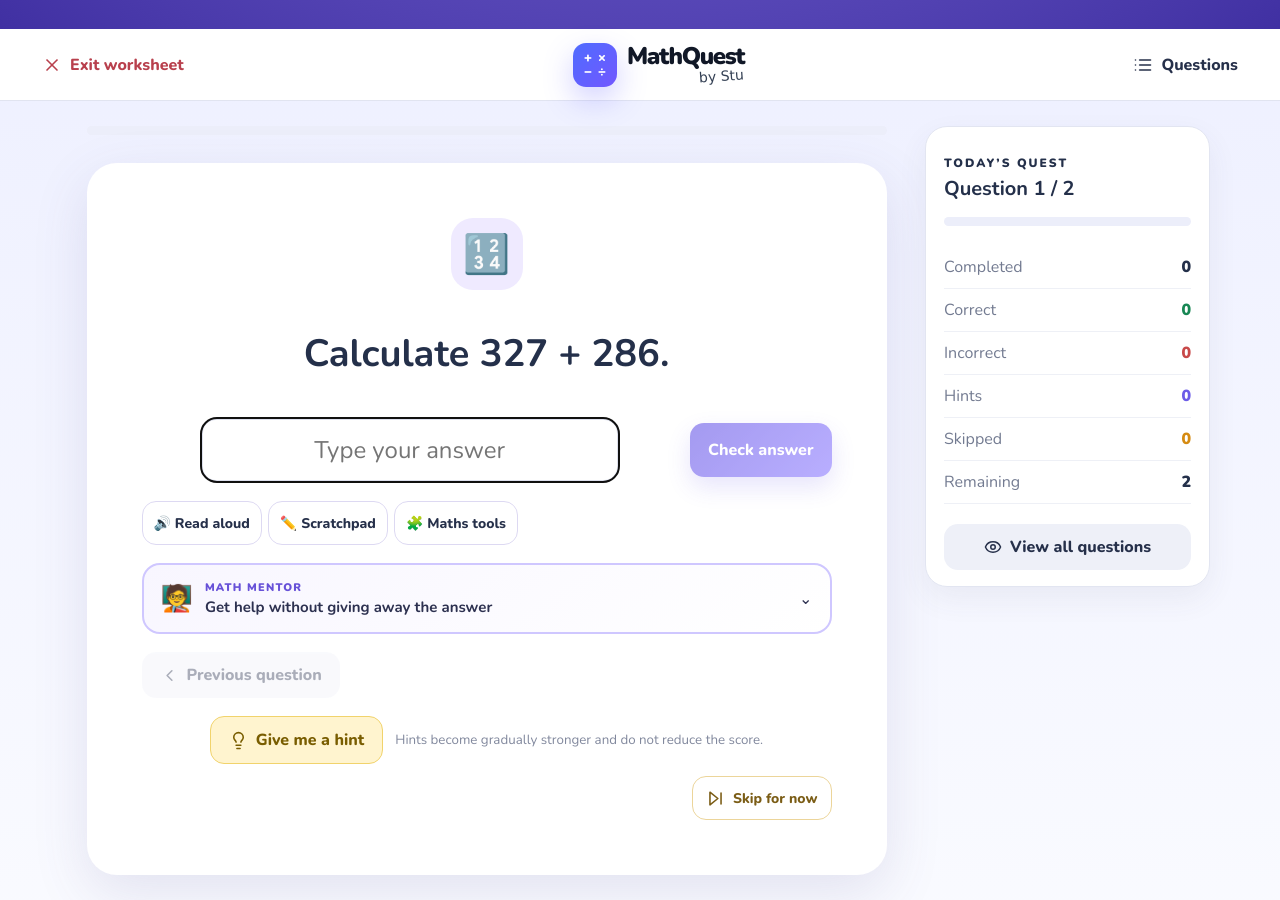
Test: v0.38 iPad landscape answer feedback › records the existing confidence evidence from inside the modal
(page scrolled)
Step 1. Type "613" into the field labelled "your answer" → x=410, y=450, box [200,417,620,483]
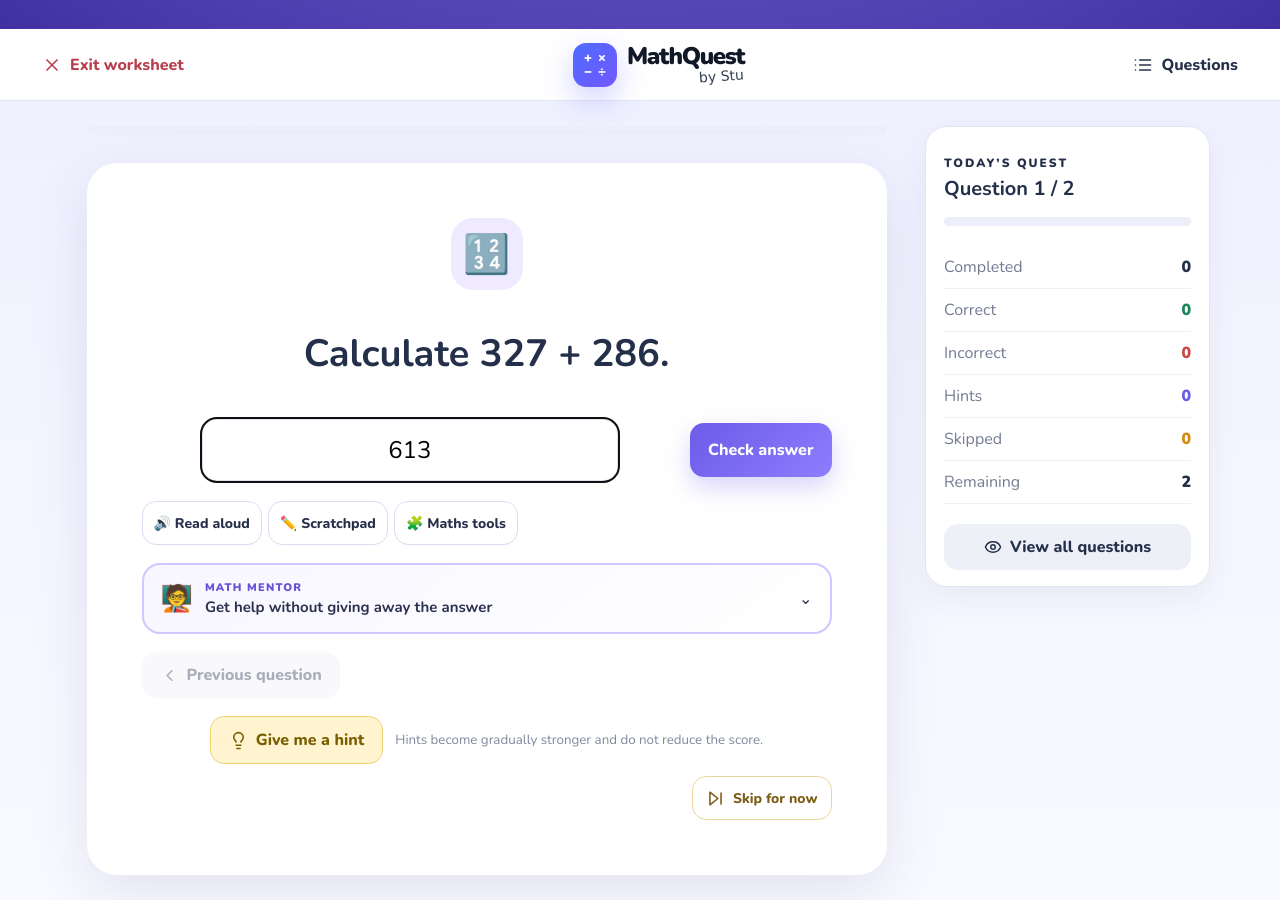
Step 2. Press Enter in the field named "your answer", box [200,417,620,483]
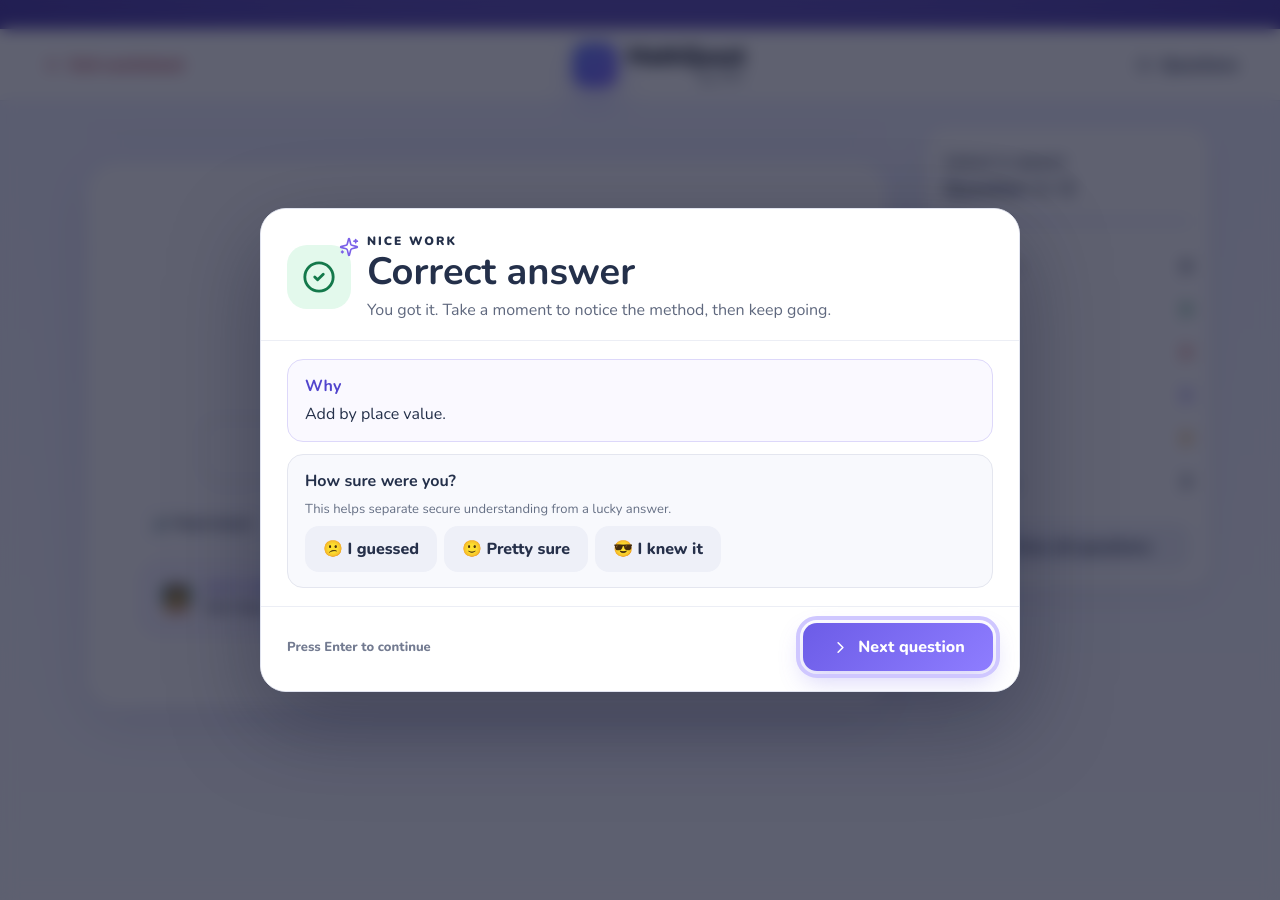
Result: the dialog "Correct answer" is shown at [260,208,1020,692]
Step 3. Click the button "🙂 Pretty sure" → x=516, y=549, box [444,526,588,572]
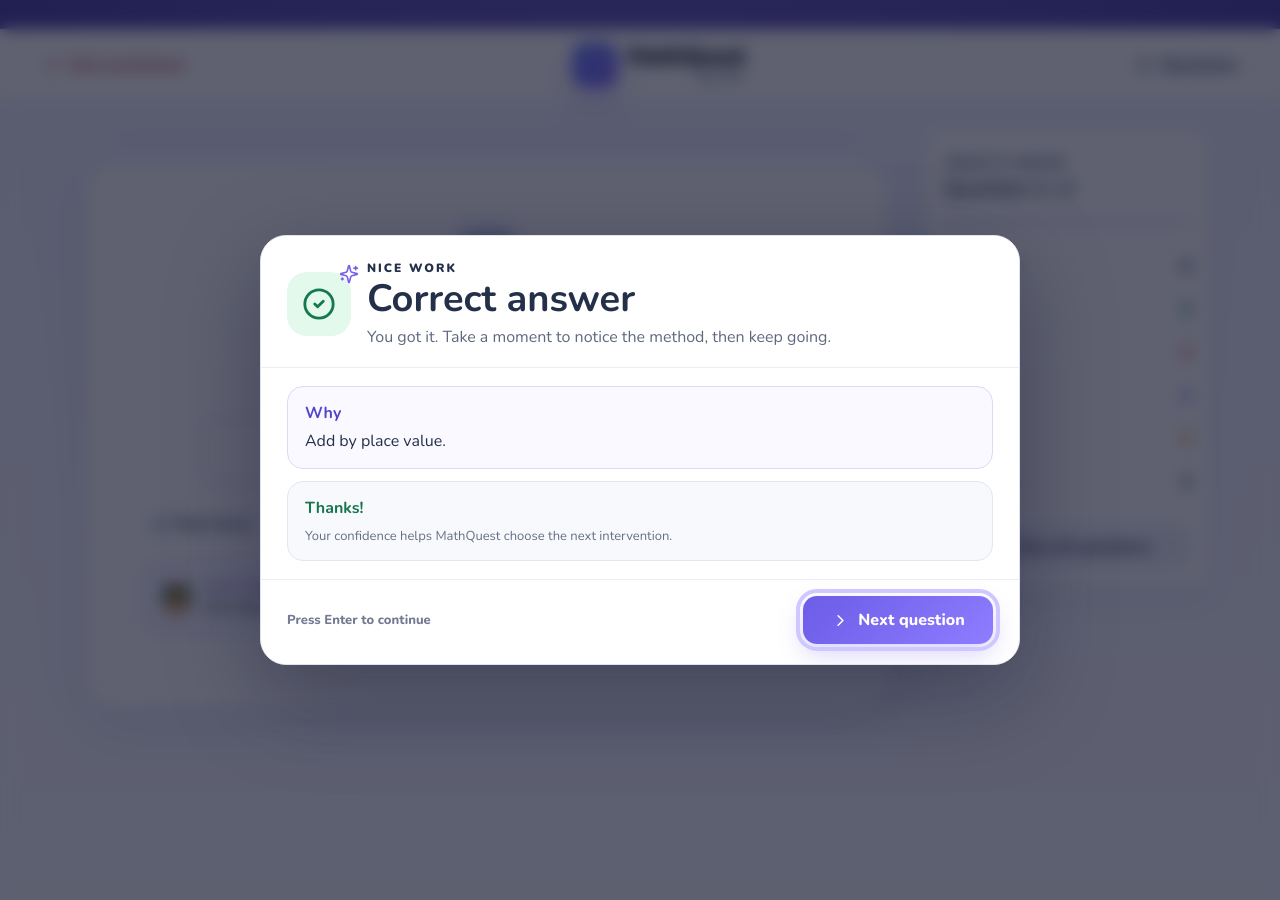
Result: the text "Thanks!" is shown at [305,497,364,519]
